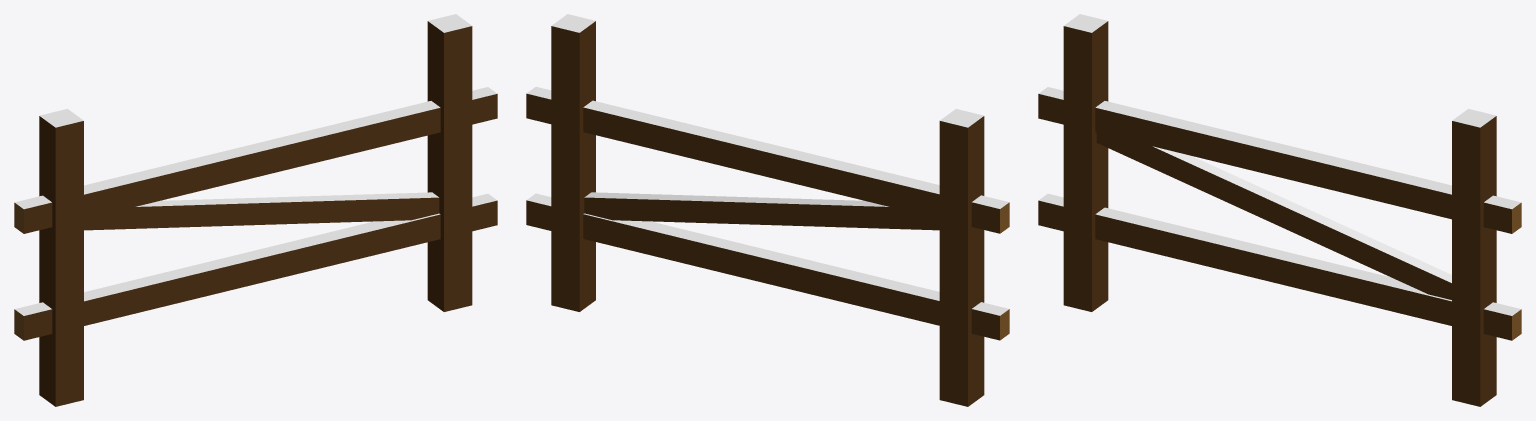
The model's file is Fence_02.fbx.
3 renders of one model, left to right at view 1: azimuth 30°, elevation 25°; view 2: azimuth 150°, elevation 25°; view 3: azimuth 330°, elevation 25°, orthographic.
Visible parts, largest first — view 1: Fence_02; view 2: Fence_02; view 3: Fence_02.
Boxes of the visible parts, x1=… form: Fence_02: x1=14, y1=14, x2=497, y2=406; Fence_02: x1=526, y1=14, x2=1009, y2=406; Fence_02: x1=1038, y1=14, x2=1521, y2=406.
Bounding box in the file's own units: 0.3333 × 0.1878 × 0.02.
